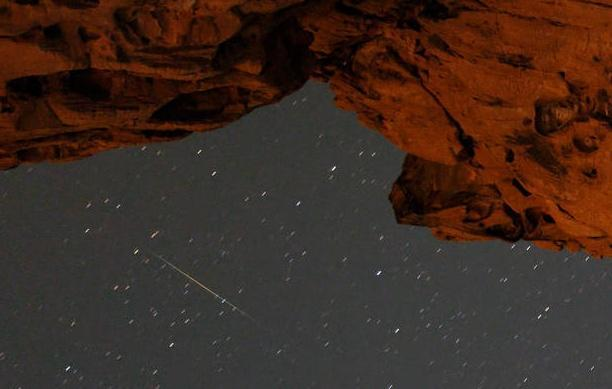meteorite: (119, 233, 255, 331)
